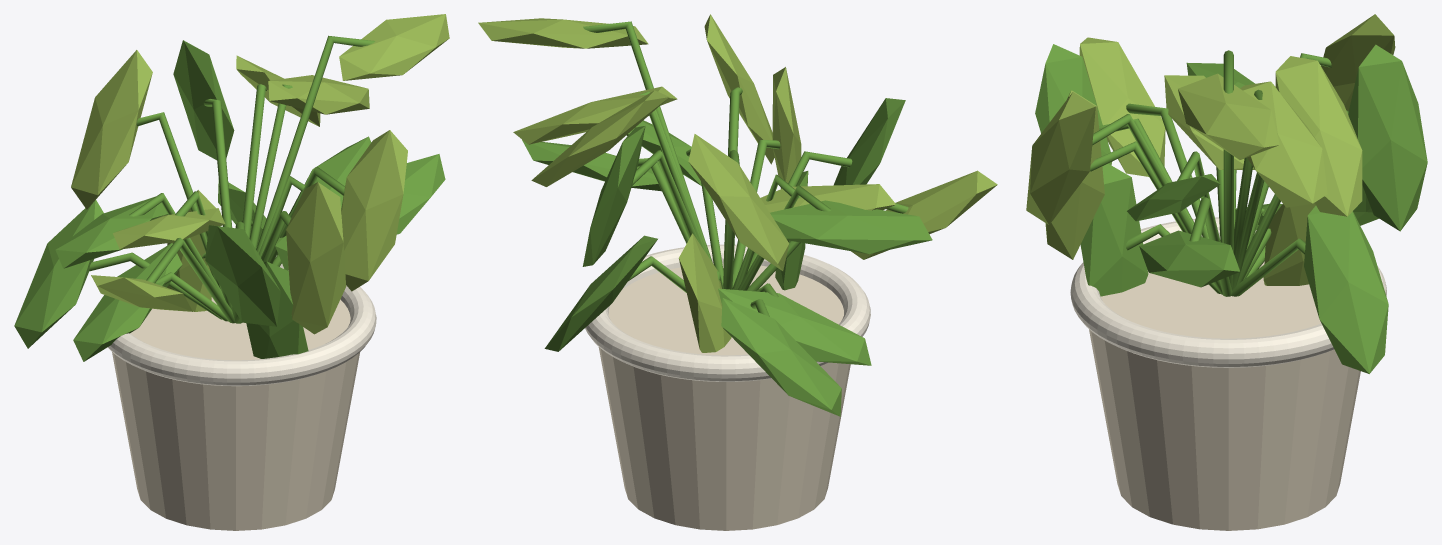
Rendered from potted-plant.glb.
3 views of the same model, side by side, from view 1: azimuth 30°, elevation 25°; view 2: azimuth 150°, elevation 25°; view 3: azimuth 270°, elevation 25° (orthographic). The views are drawn at different scales.
Parts seen in each view (by area): view 1: potted_plant_batched; view 2: potted_plant_batched; view 3: potted_plant_batched.
Boxes of the visible parts, x1=… form: potted_plant_batched: x1=14, y1=14, x2=449, y2=530; potted_plant_batched: x1=478, y1=14, x2=997, y2=530; potted_plant_batched: x1=1026, y1=14, x2=1427, y2=530.
Bounding box in the file's own units: 0.9471 × 0.9125 × 0.6846.
